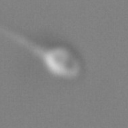normal: (1, 22, 46, 60)
